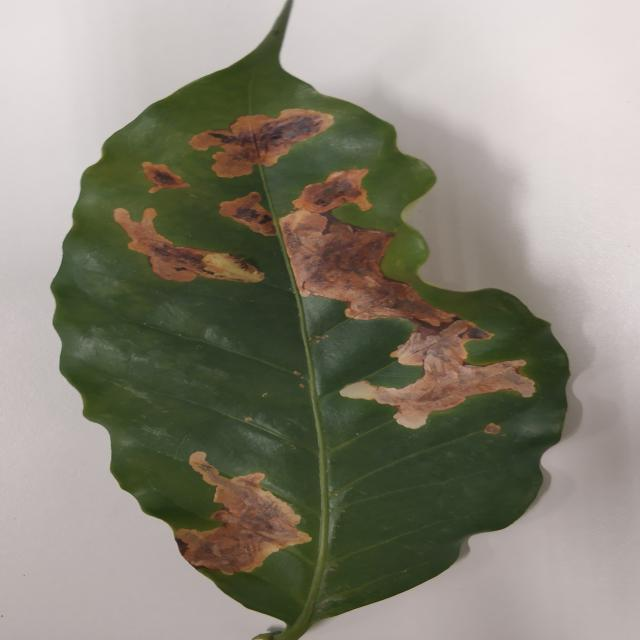Plaga-Minador: (53, 0, 575, 640)
